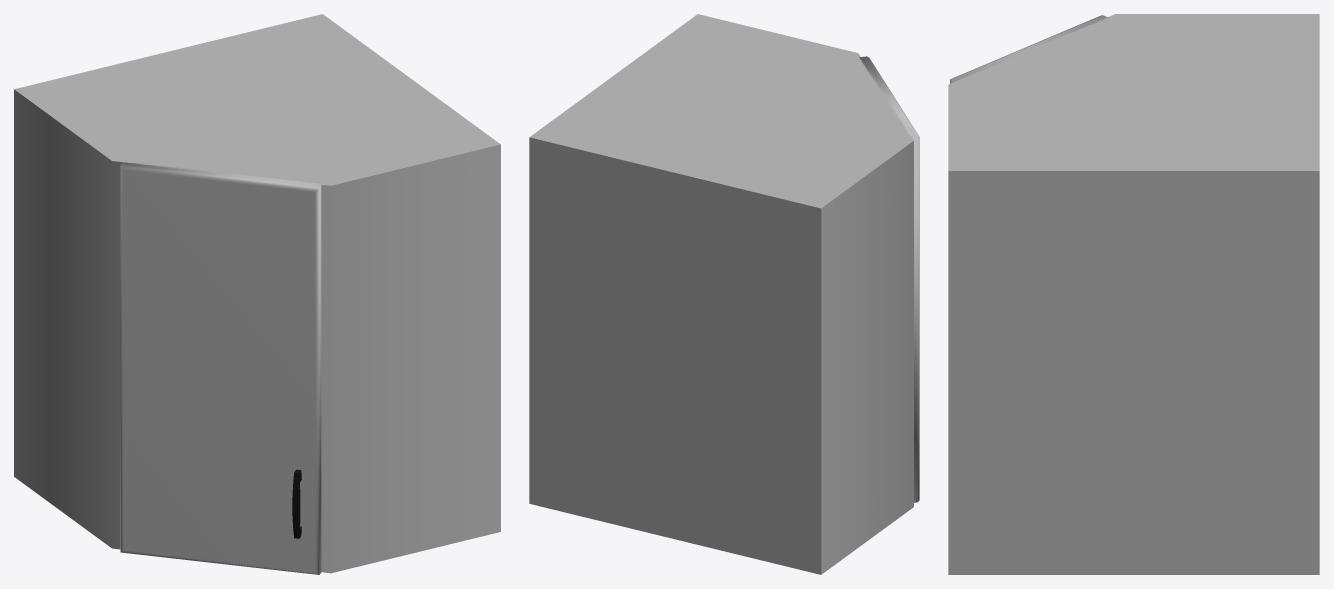
The picture shows the model from 3 angles, left to right: view 1: azimuth 30°, elevation 25°; view 2: azimuth 150°, elevation 25°; view 3: azimuth 270°, elevation 25°; orthographic projection. The views are drawn at different scales.
Visible parts, largest first — view 1: ملحق 60*60 45, Box012; view 2: ملحق 60*60 45, Box012; view 3: ملحق 60*60 45, Box012.
Part boxes in pixels (box(x1,y1,x2,y2)): ملحق 60*60 45: box(14, 14, 500, 573); Box012: box(120, 162, 321, 574); ملحق 60*60 45: box(529, 14, 913, 574); Box012: box(859, 56, 919, 502); ملحق 60*60 45: box(948, 14, 1319, 574); Box012: box(950, 15, 1108, 83).
Size of the model in its own units: 0.6 by 0.72 by 0.6.
Materials: 2 (1 with a texture image).
